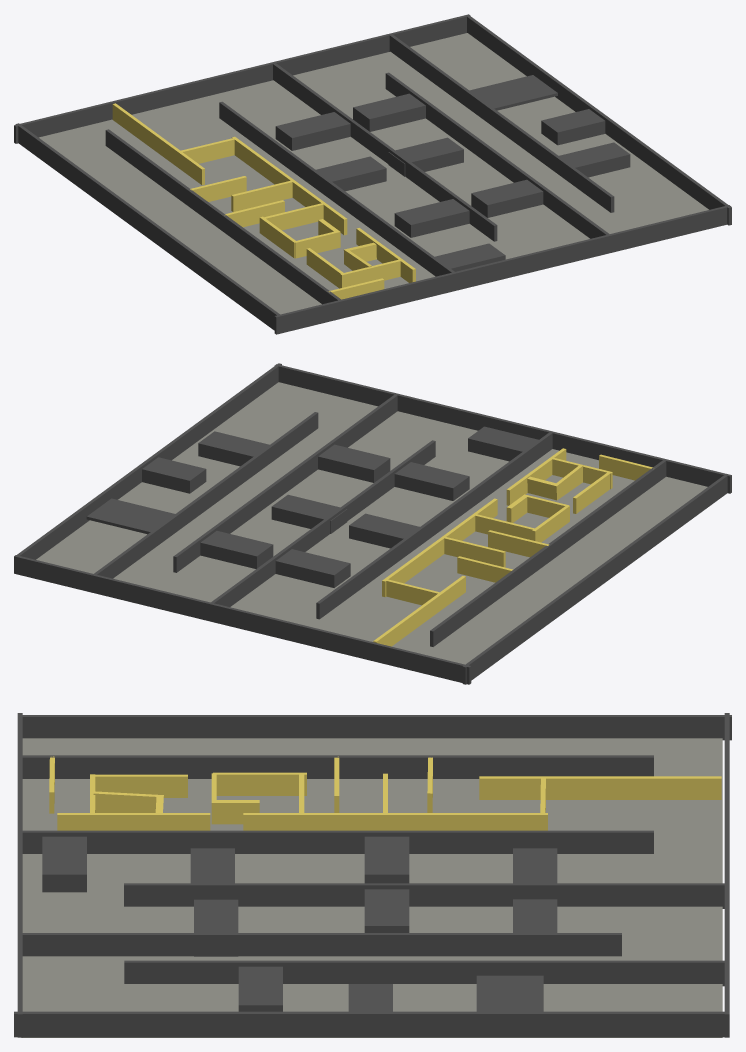
The picture shows the model from 3 angles, top to bottom: view 1: azimuth 30°, elevation 25°; view 2: azimuth 150°, elevation 25°; view 3: azimuth 270°, elevation 25°; orthographic projection. The views are drawn at different scales.
Parts seen in each view (by area): view 1: Maze; view 2: Maze; view 3: Maze.
Boxes of the visible parts, x1,y1,x2,y2 form: Maze: (14, 14, 731, 334); Maze: (14, 363, 731, 684); Maze: (14, 713, 731, 1037).
Bounding box in the file's own units: 13.73 × 13.84 × 0.5653.
